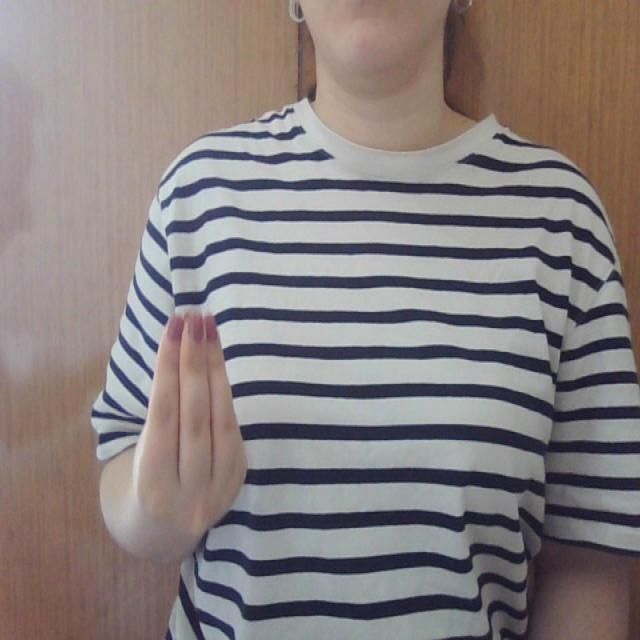iyi: (135, 294, 258, 552)
